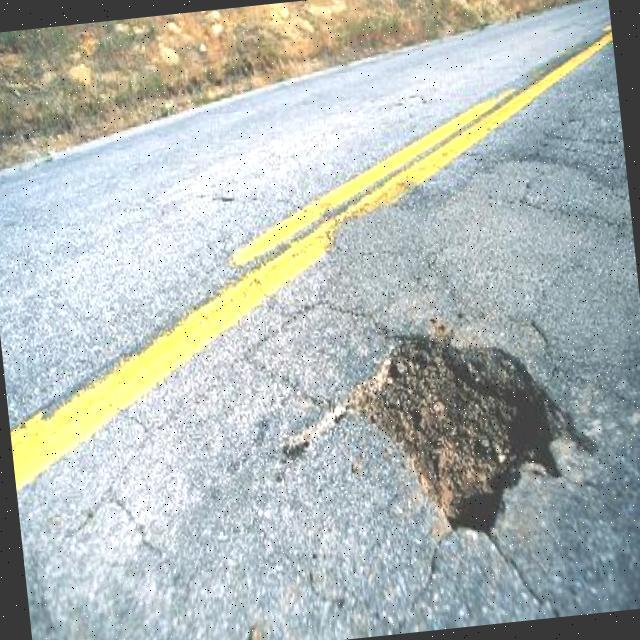Pothole: (280, 336, 598, 542)
